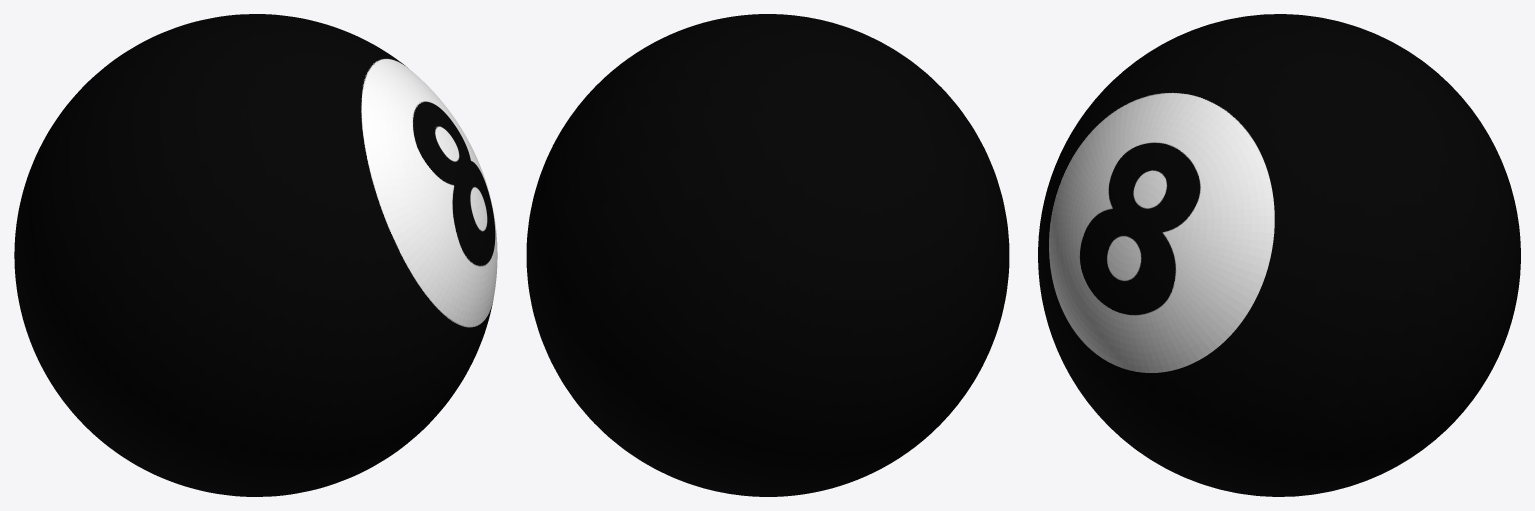
The picture shows the model from 3 angles, left to right: view 1: azimuth 30°, elevation 25°; view 2: azimuth 150°, elevation 25°; view 3: azimuth 270°, elevation 25°; orthographic projection.
Visible parts, largest first — view 1: Sphere; view 2: Sphere; view 3: Sphere.
Boxes of the visible parts, <box> form: Sphere: <box>14,14,497,496</box>; Sphere: <box>526,14,1009,496</box>; Sphere: <box>1038,14,1520,496</box>.
Size of the model in its own units: 3.7 by 3.7 by 3.7.
1 material, 1 textured.
